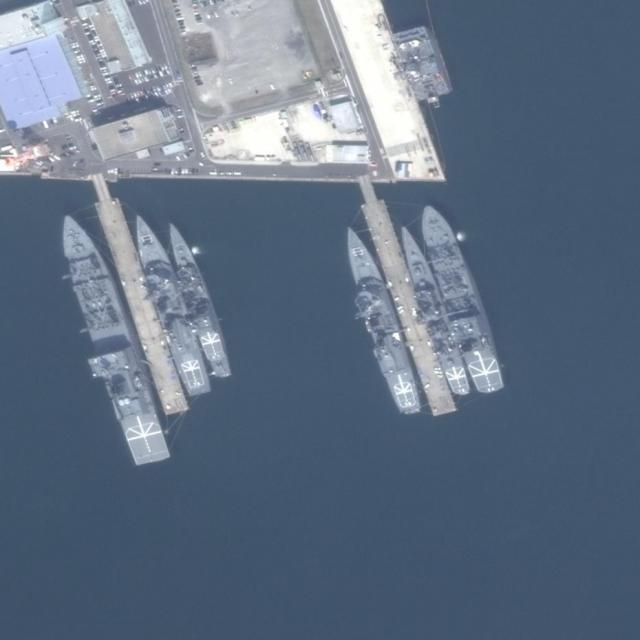Auxiliary Ships: (53, 207, 170, 469), (415, 200, 507, 396)
Destroyer: (125, 207, 215, 400), (392, 221, 477, 400), (162, 220, 233, 381)
Dock: (87, 170, 189, 416), (354, 177, 457, 419)
Other Warship: (333, 219, 427, 418)
